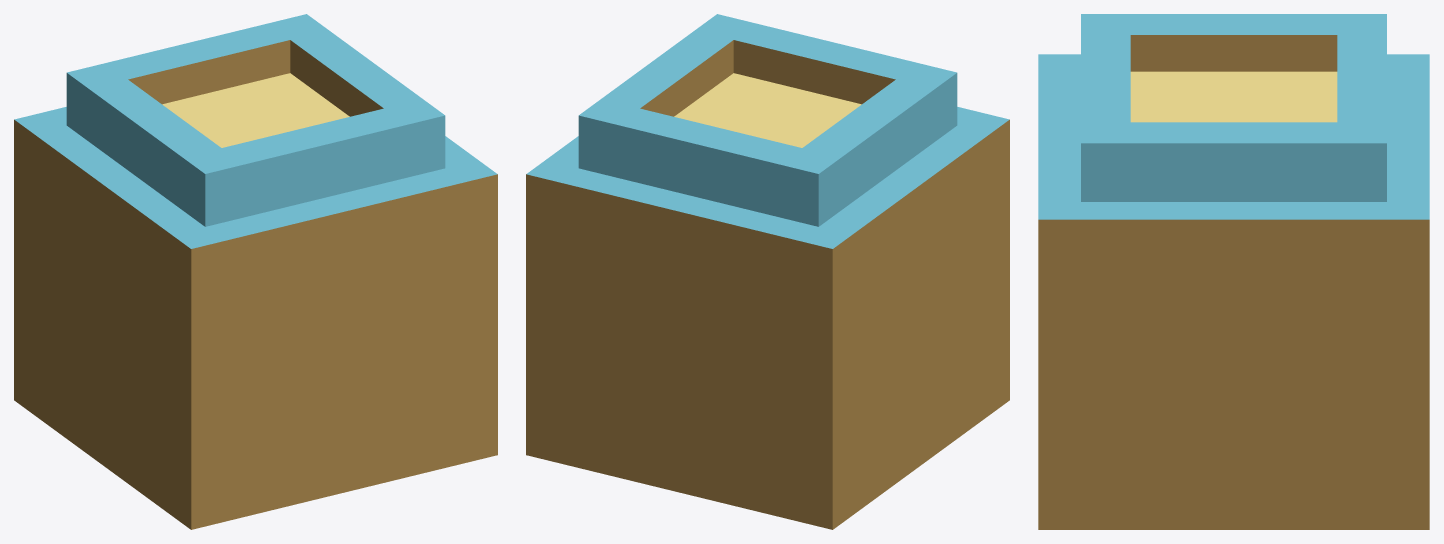
Rendered from socle_city_small.fbx.
3 renders of one model, left to right at view 1: azimuth 30°, elevation 25°; view 2: azimuth 150°, elevation 25°; view 3: azimuth 270°, elevation 25°, orthographic. The views are drawn at different scales.
Parts seen in each view (by area): view 1: City_socle_small; view 2: City_socle_small; view 3: City_socle_small.
Part boxes in pixels (left/top/right/bottom): City_socle_small: left=14, top=14, right=497, bottom=529; City_socle_small: left=526, top=14, right=1009, bottom=529; City_socle_small: left=1038, top=14, right=1429, bottom=529.
Bounding box in the file's own units: 33.56 × 34.91 × 33.56.
